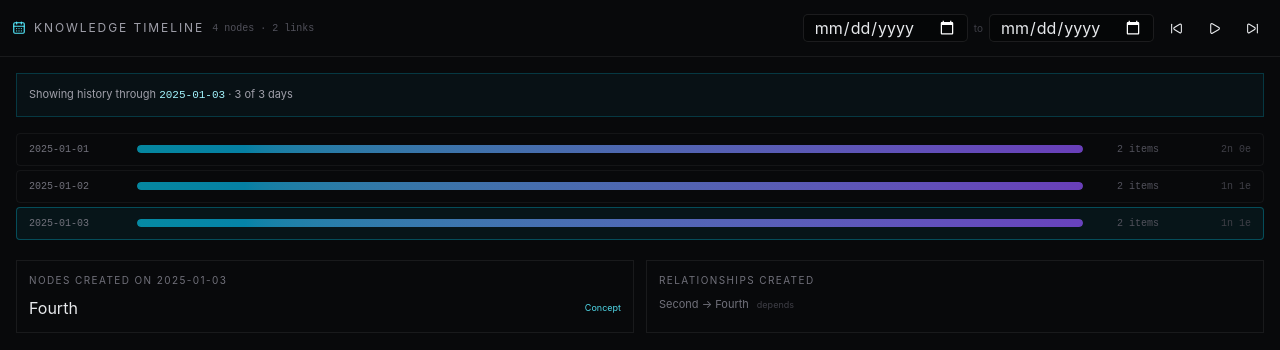
Test: TimelineExplorer › limits the timeline with start and end date inputs
Type "2025-01-03" into the date field named "Timeline start date". click: (885, 28)
box: [803, 14, 968, 42]
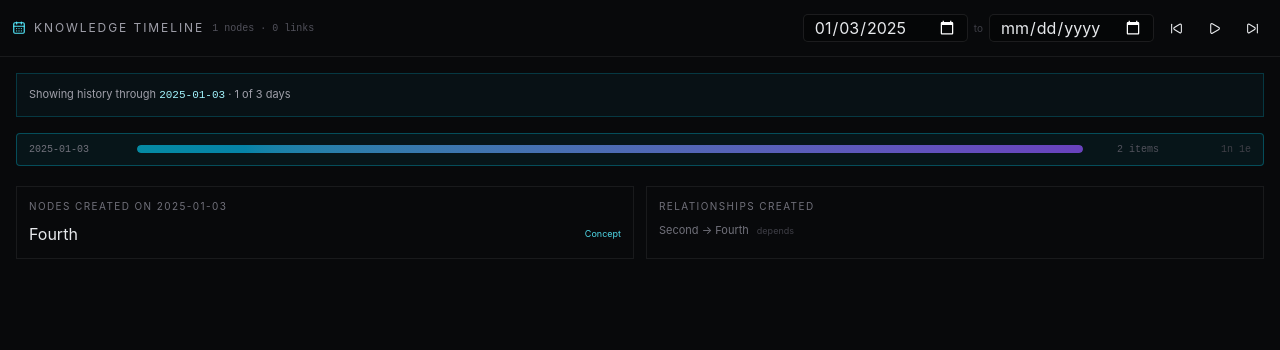
Result: the text "1 nodes · 0 links" is shown at [212, 20, 314, 36]
Result: the button "2025-01-01" is gone
Type "2025-01-04" into the date field named "Timeline start date". click: (885, 28)
box: [803, 14, 968, 42]
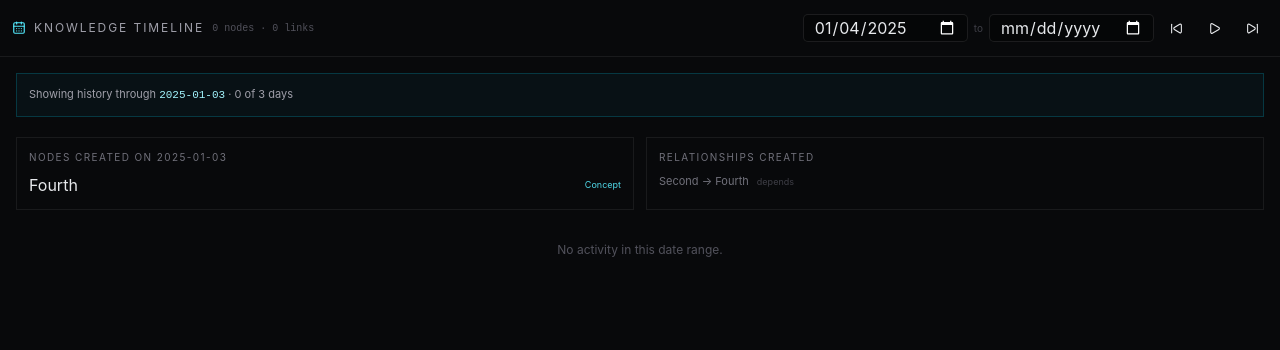
Result: the text "No activity in this date range." is shown at [557, 242, 723, 256]
